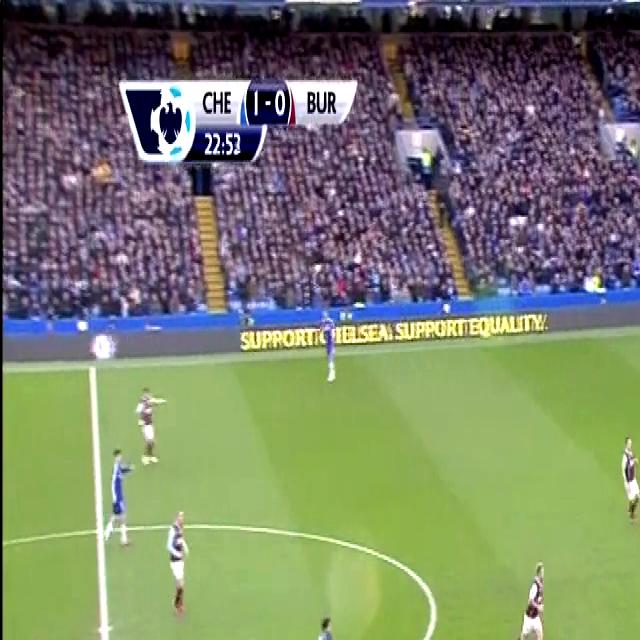referee: (17, 631, 56, 640)
soccer-player: (502, 542, 553, 640), (161, 502, 196, 620), (96, 445, 136, 545), (132, 369, 169, 472), (614, 416, 640, 526), (318, 314, 344, 393), (306, 599, 355, 640)
